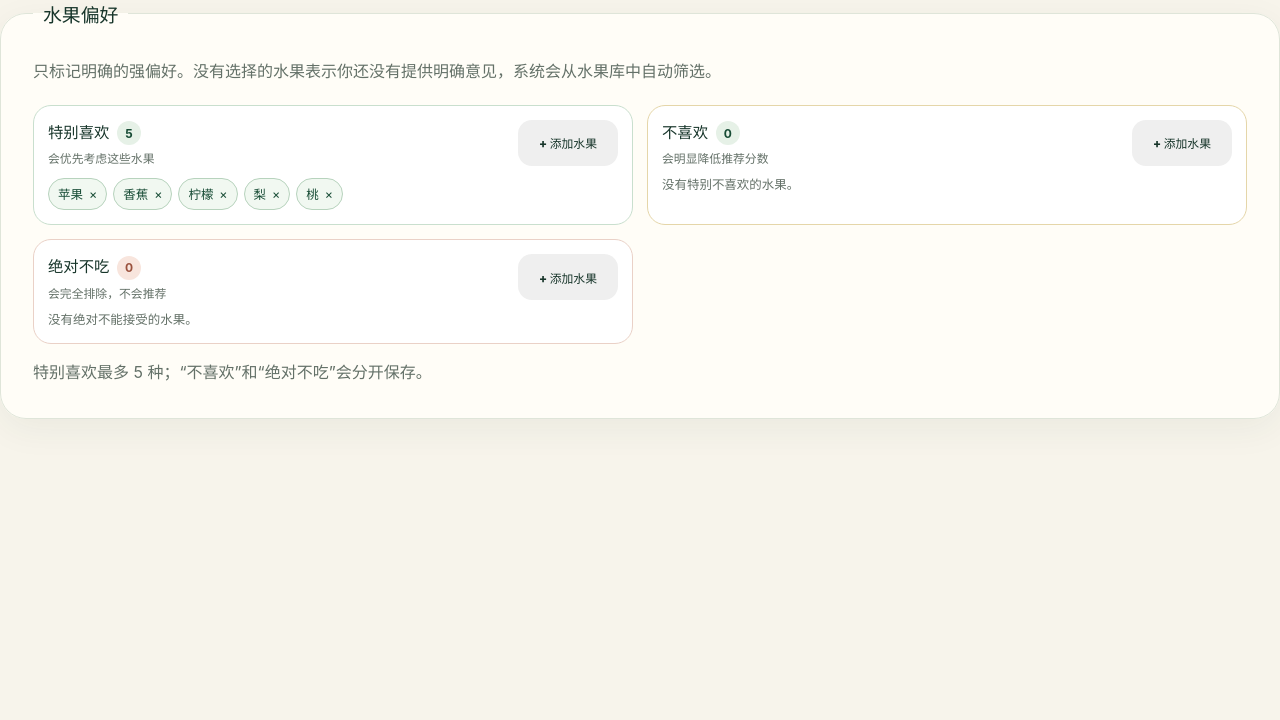
FruitPreferencePicker › enforces the five-fruit favorite limit in the picker
Click the button with class "button--small" in the row of "会优先考虑这些水果".
click(568, 143)  # box [518, 120, 618, 166]
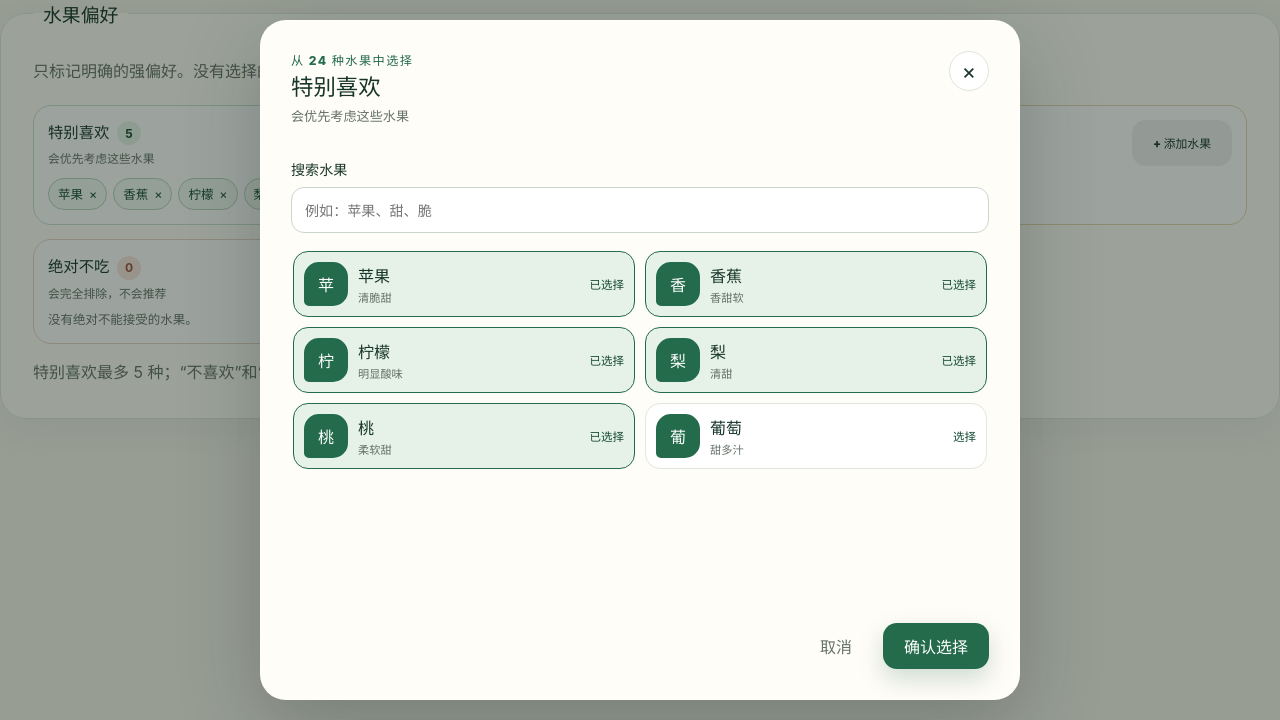
Click the button with class "fruit-picker-option-main" showing "葡 葡萄 甜多汁 选择".
click(678, 436)  # box [646, 404, 986, 468]
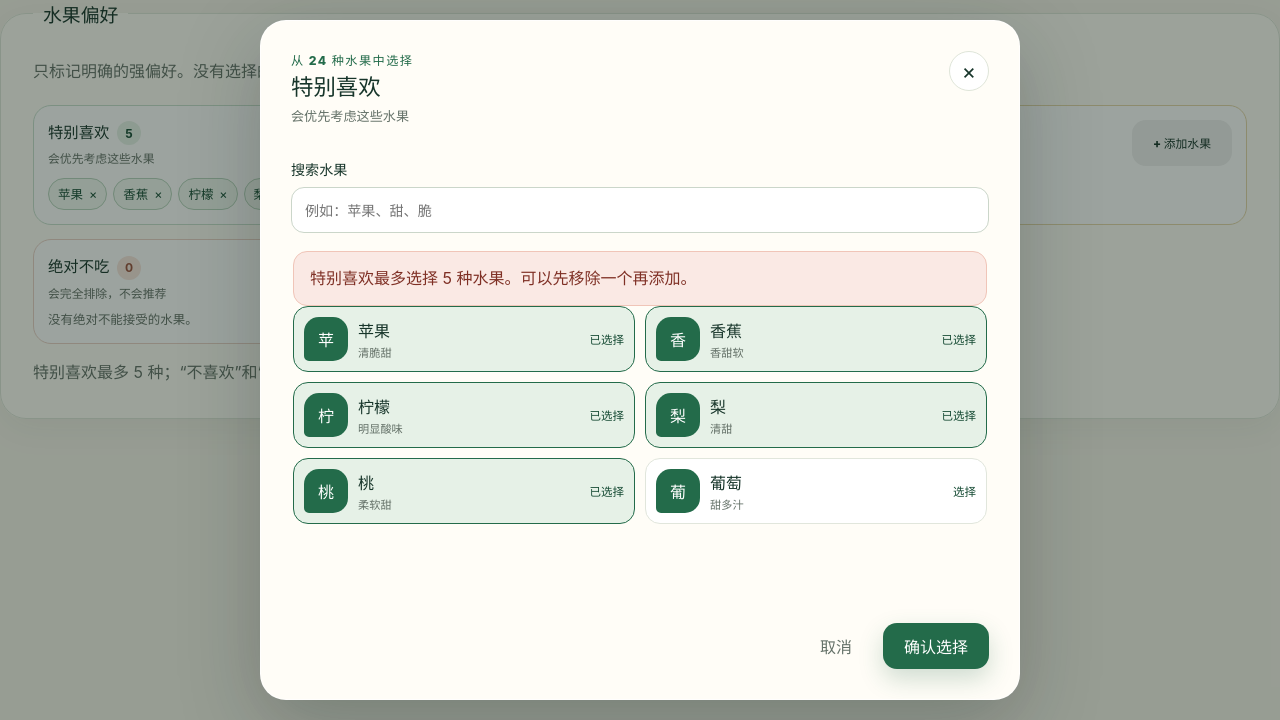
expect the text "特别喜欢最多选择 5 种" is shown: met, box [310, 268, 696, 288]
